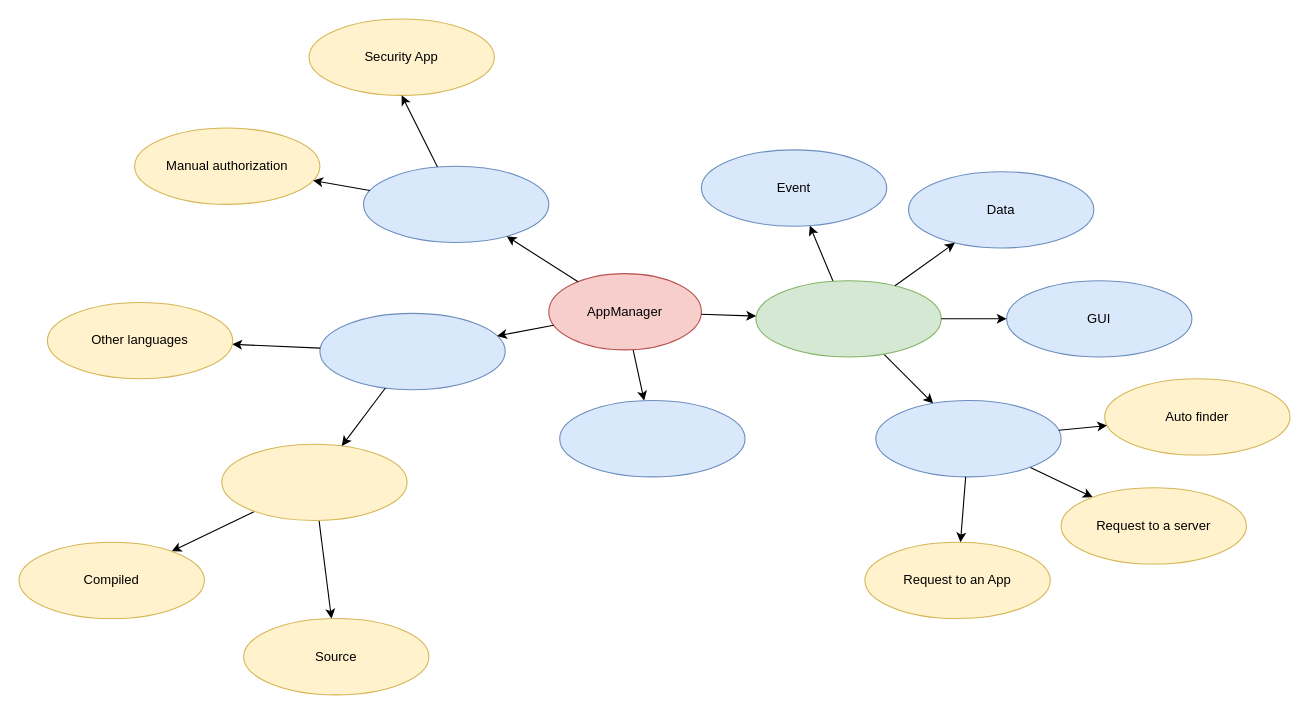
Some shapes in this 1309 by 714 pixel diagram are drawn without their labels. Each missing label, with the centre of its shape:
"APIs" goes at pixel 848 318.
"App types" goes at pixel 412 351.
"Formal Language" goes at pixel 314 481.
"Permissions" goes at pixel 455 204.
"Request" goes at pixel 968 438.
"Response" goes at pixel 652 438.
